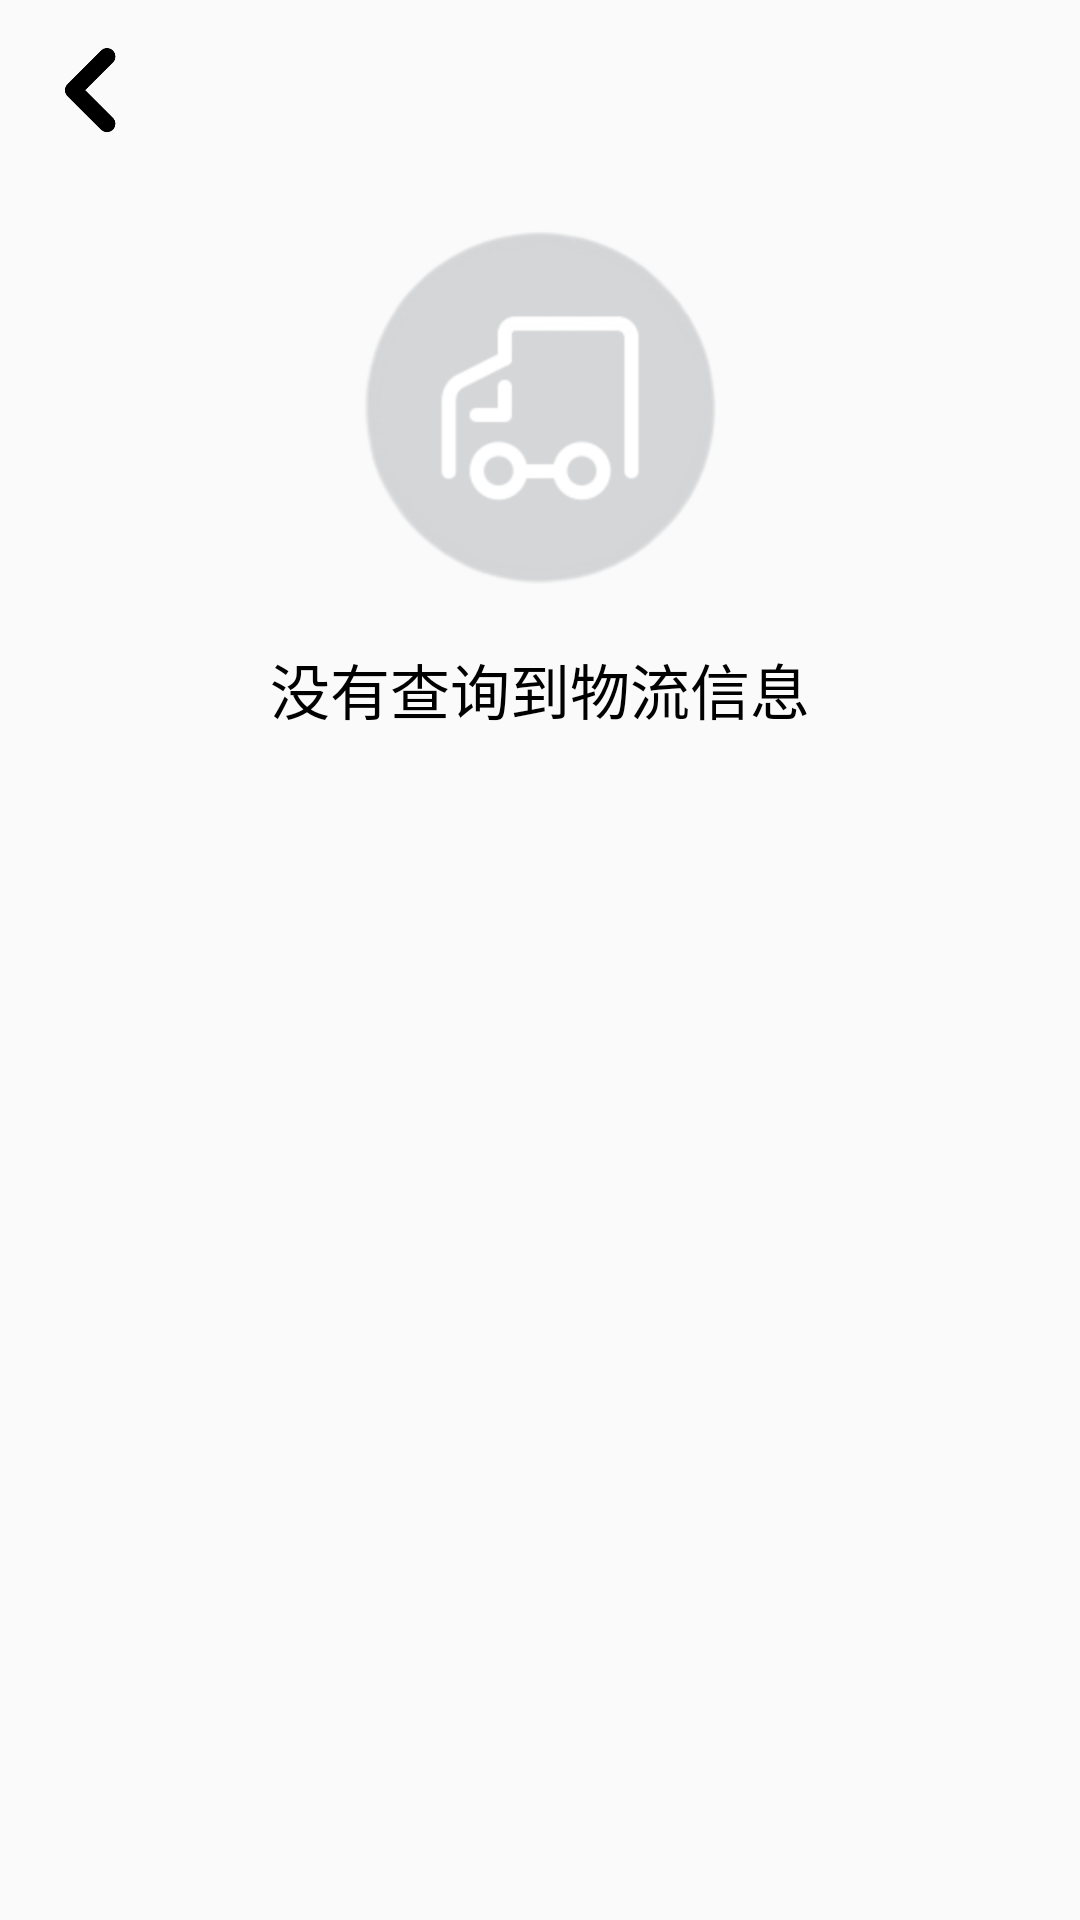

Icon bounding boxes for this 1080px x 1920px phone screenshot, format (x1, y1, x2, y2):
back: (65, 48, 116, 132)
car: (367, 234, 714, 581)
